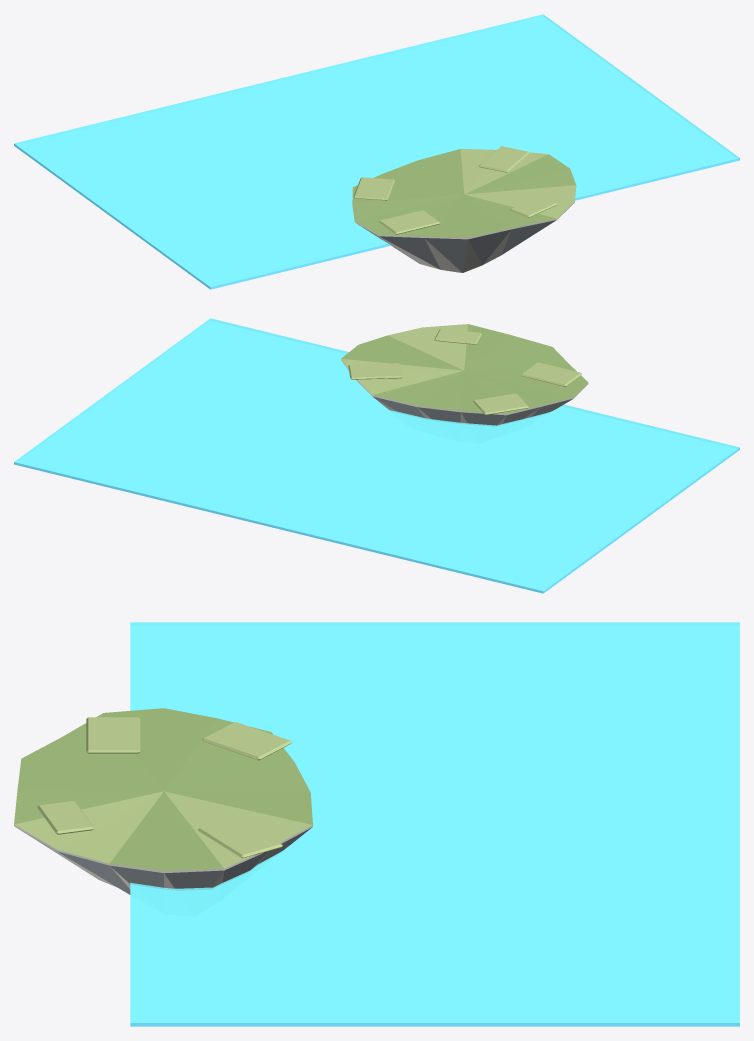
Rendered from MOD_MainIsland_Terrain.fbx.
The picture shows the model from 3 angles, top to bottom: view 1: azimuth 30°, elevation 25°; view 2: azimuth 150°, elevation 25°; view 3: azimuth 270°, elevation 25°; orthographic projection. The views are drawn at different scales.
Parts seen in each view (by area): view 1: ENV_DistantWater, ENV_MainIsland_GrassCap, ENV_MainIsland_Faceted, GRS_RaisedPatch_00, GRS_RaisedPatch_02, GRS_RaisedPatch_03, GRS_RaisedPatch_01; view 2: ENV_DistantWater, ENV_MainIsland_GrassCap, ENV_MainIsland_Faceted, GRS_RaisedPatch_00, GRS_RaisedPatch_02, GRS_RaisedPatch_03, GRS_RaisedPatch_01; view 3: ENV_DistantWater, ENV_MainIsland_GrassCap, ENV_MainIsland_Faceted, GRS_RaisedPatch_00, GRS_RaisedPatch_02, GRS_RaisedPatch_03, GRS_RaisedPatch_01.
Part boxes in pixels (x1,y1,x2,y2): ENV_DistantWater: [14, 14, 739, 289]; ENV_MainIsland_GrassCap: [352, 149, 576, 237]; ENV_MainIsland_Faceted: [352, 186, 576, 272]; GRS_RaisedPatch_00: [379, 210, 440, 234]; GRS_RaisedPatch_02: [479, 146, 529, 172]; GRS_RaisedPatch_03: [353, 177, 394, 200]; GRS_RaisedPatch_01: [510, 196, 557, 217]; ENV_DistantWater: [14, 318, 739, 593]; ENV_MainIsland_GrassCap: [341, 324, 588, 413]; ENV_MainIsland_Faceted: [341, 359, 588, 425]; GRS_RaisedPatch_00: [521, 362, 581, 386]; GRS_RaisedPatch_02: [348, 363, 402, 379]; GRS_RaisedPatch_03: [473, 393, 528, 415]; GRS_RaisedPatch_01: [434, 329, 481, 344]; ENV_DistantWater: [130, 622, 739, 1026]; ENV_MainIsland_GrassCap: [14, 708, 312, 871]; ENV_MainIsland_Faceted: [14, 824, 312, 894]; GRS_RaisedPatch_00: [86, 717, 140, 753]; GRS_RaisedPatch_02: [198, 817, 282, 858]; GRS_RaisedPatch_03: [202, 722, 291, 760]; GRS_RaisedPatch_01: [37, 801, 94, 834].
Bounding box in the file's own units: 56 × 5.87 × 42.86.
